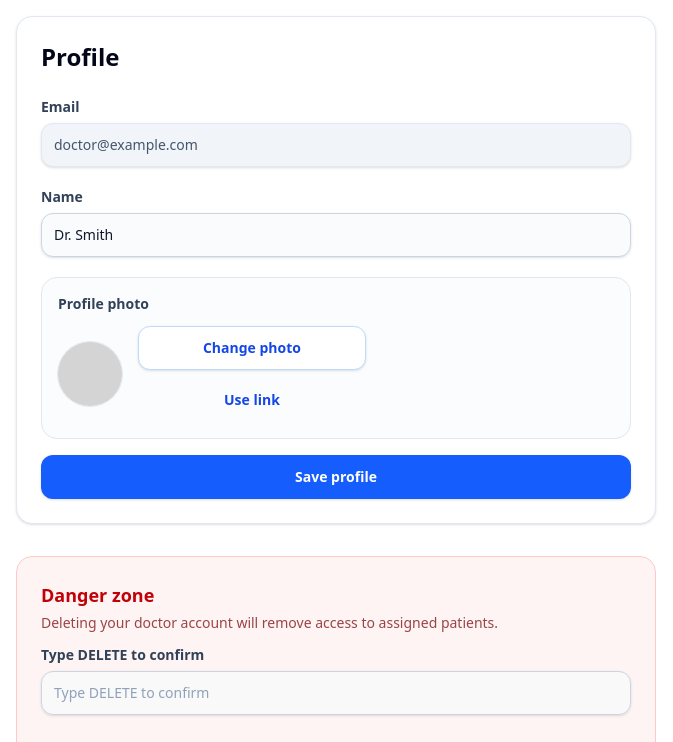
ProfilePage account actions and avatar › Use link toggles URL mode
The image size is (673, 742).
Click the button "Use link": (252, 400) [138,378,366,422]
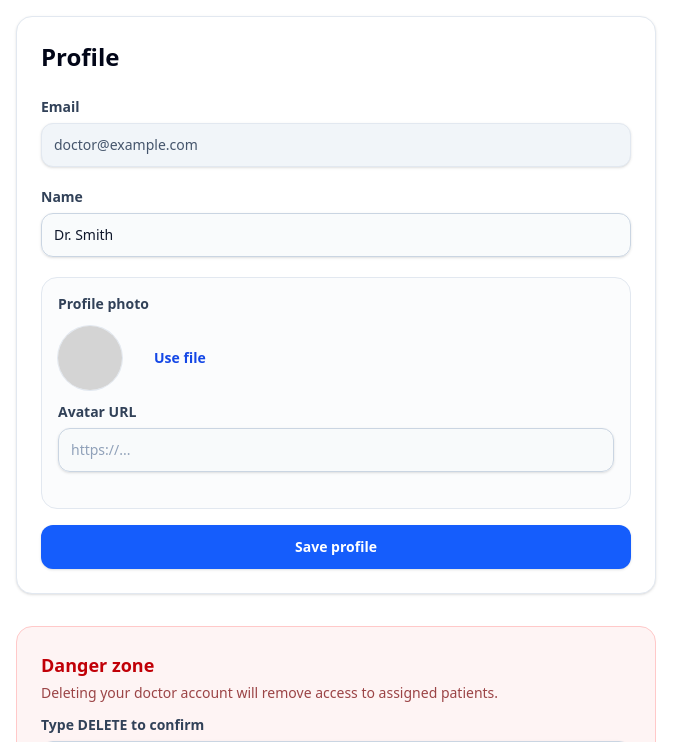
expect the field labelled "Avatar URL" is shown: met, box [58,428,614,472]
expect the button "Use file" is shown: met
Click the button "Use file": (180, 358) [138,336,222,380]
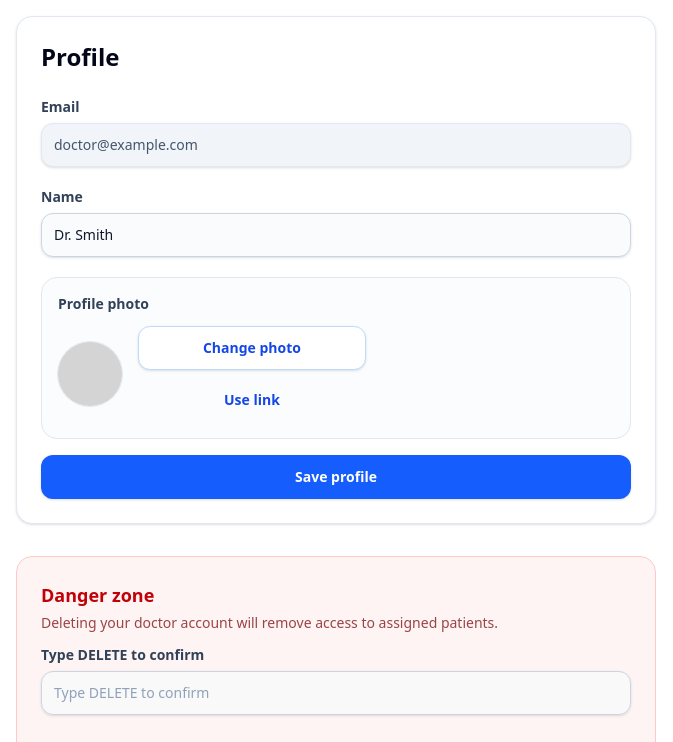
expect the field with placeholder "https://..." is gone: met
expect the button "Use link" is shown: met, box [138,378,366,422]
